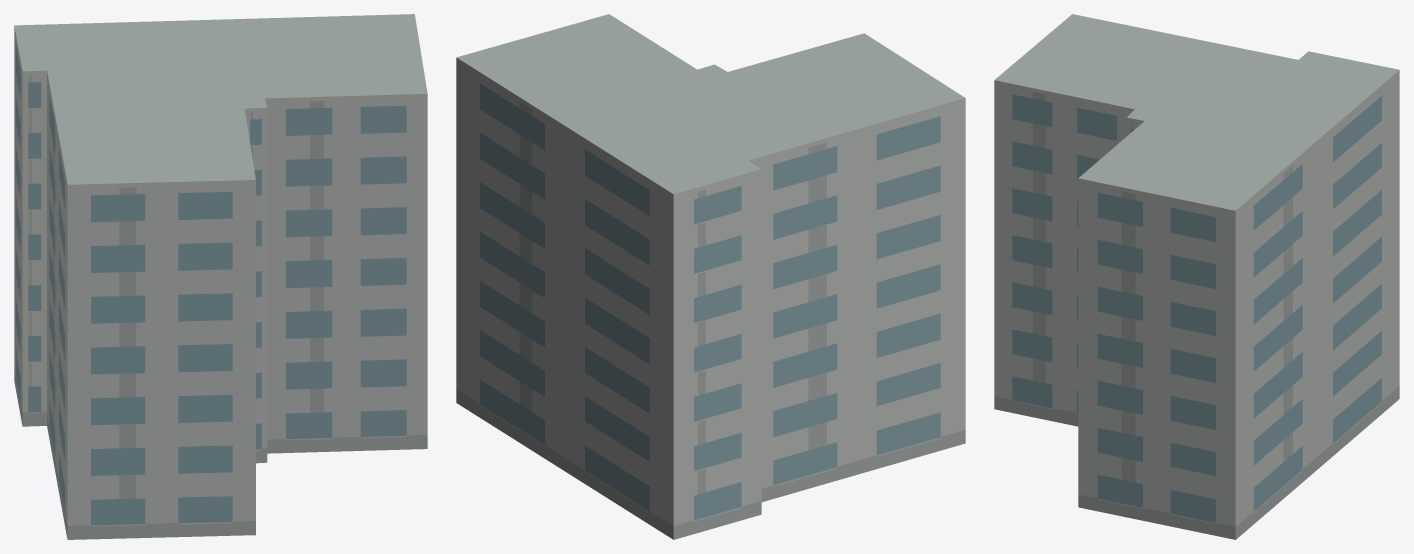
File: survey-upis-32946618.glb
3 views of the same model, side by side, from view 1: azimuth 30°, elevation 25°; view 2: azimuth 150°, elevation 25°; view 3: azimuth 270°, elevation 25° (orthographic). The views are drawn at different scales.
Parts seen in each view (by area): view 1: survey-upis-32946618.tmp; view 2: survey-upis-32946618.tmp; view 3: survey-upis-32946618.tmp.
Part boxes in pixels (x1=…): survey-upis-32946618.tmp: x1=14, y1=14, x2=427, y2=539; survey-upis-32946618.tmp: x1=456, y1=14, x2=965, y2=539; survey-upis-32946618.tmp: x1=994, y1=14, x2=1399, y2=539.
Size of the model in its own units: 25.92 by 20.2 by 22.56.
